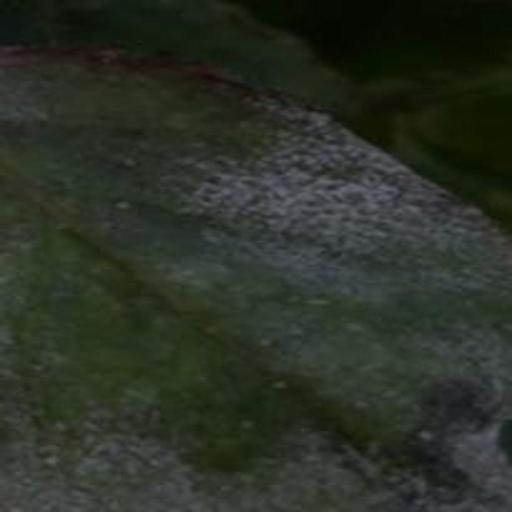powdery_mildew: (0, 44, 512, 512)
